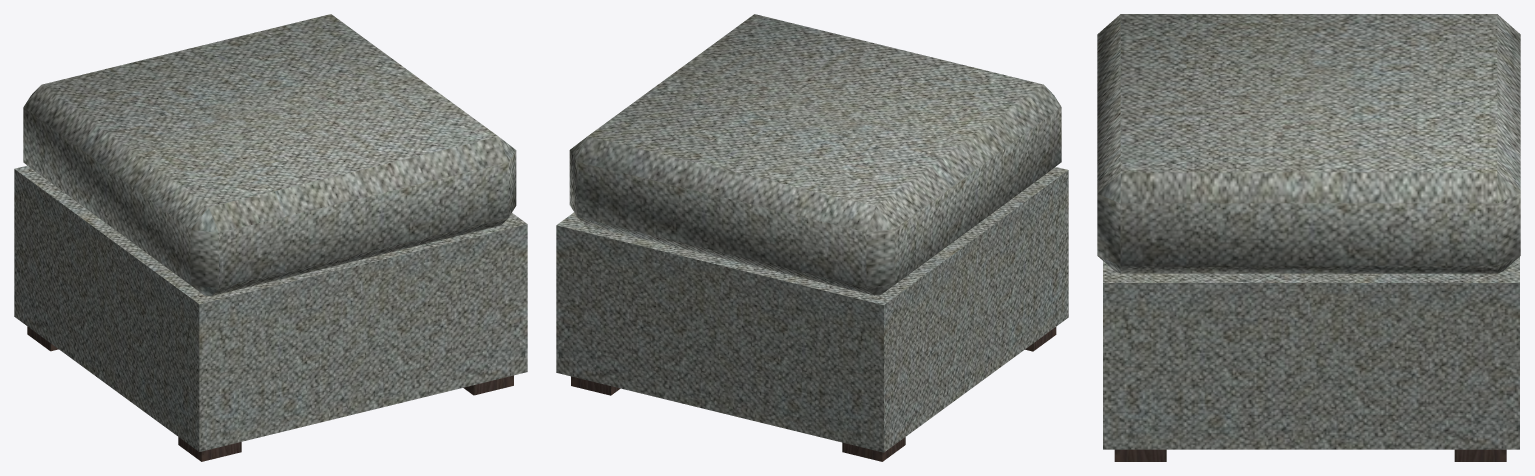
File: Armchair_19-col.glb
3 views of the same model, side by side, from view 1: azimuth 30°, elevation 25°; view 2: azimuth 150°, elevation 25°; view 3: azimuth 270°, elevation 25° (orthographic). The views are drawn at different scales.
Parts seen in each view (by area): view 1: Armchair_19-col; view 2: Armchair_19-col; view 3: Armchair_19-col.
Boxes of the visible parts, x1,y1,x2,y2 form: Armchair_19-col: (14, 14, 527, 461); Armchair_19-col: (556, 14, 1068, 461); Armchair_19-col: (1097, 14, 1520, 461).
Bounding box in the file's own units: 0.7714 × 0.5608 × 0.7632.
2 materials, 2 textured.
